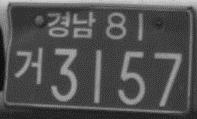1: (88, 49, 106, 103), (133, 13, 149, 41)
3: (49, 47, 78, 102)
5: (117, 50, 146, 105)
7: (153, 51, 182, 107)
8: (105, 11, 127, 40)
거: (15, 46, 43, 85)
경남_O: (46, 11, 96, 38)
